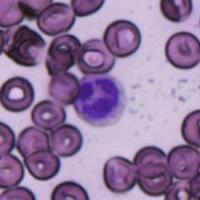N: (73, 72, 128, 127)
